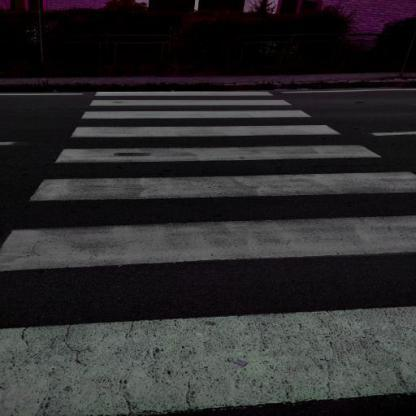crosswalk: (44, 121, 385, 170), (84, 88, 296, 110)
